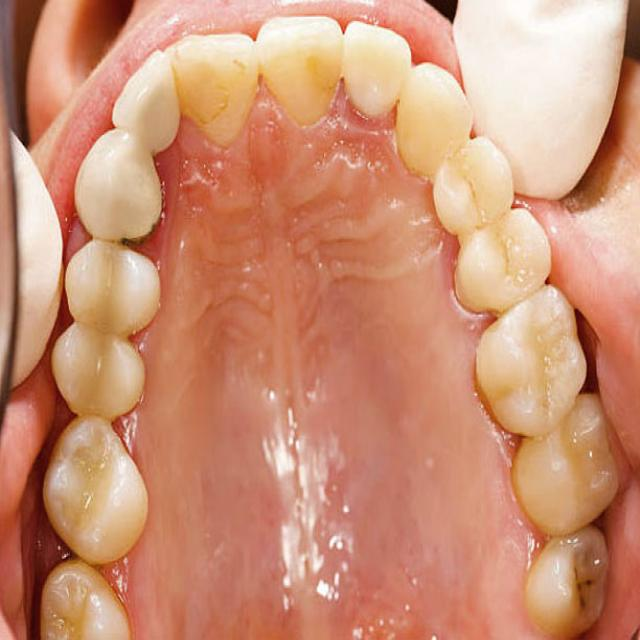caries: (560, 549, 604, 624)
